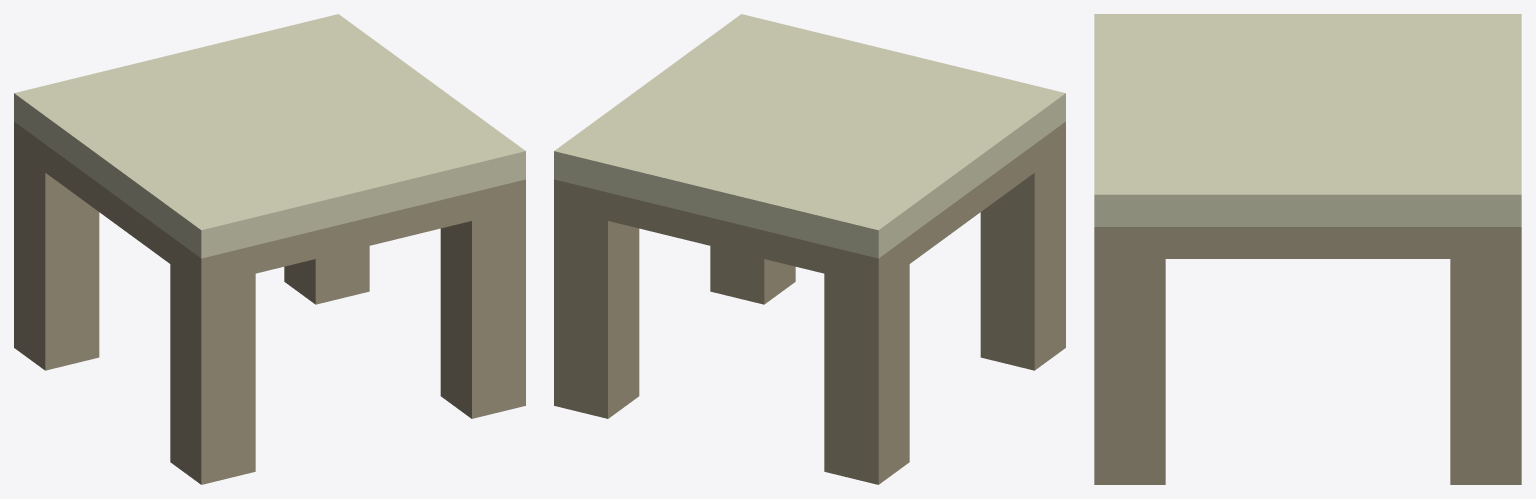
Rendered from vela_mesa_01.glb.
3 renders of one model, left to right at view 1: azimuth 30°, elevation 25°; view 2: azimuth 150°, elevation 25°; view 3: azimuth 270°, elevation 25°, orthographic. The views are drawn at different scales.
Parts seen in each view (by area): view 1: vela_mesa; view 2: vela_mesa; view 3: vela_mesa.
Part boxes in pixels (bbox=[...]): vela_mesa: bbox=[14, 14, 525, 484]; vela_mesa: bbox=[554, 14, 1065, 484]; vela_mesa: bbox=[1094, 14, 1521, 484].
Bounding box in the file's own units: 1 × 0.75 × 1.
